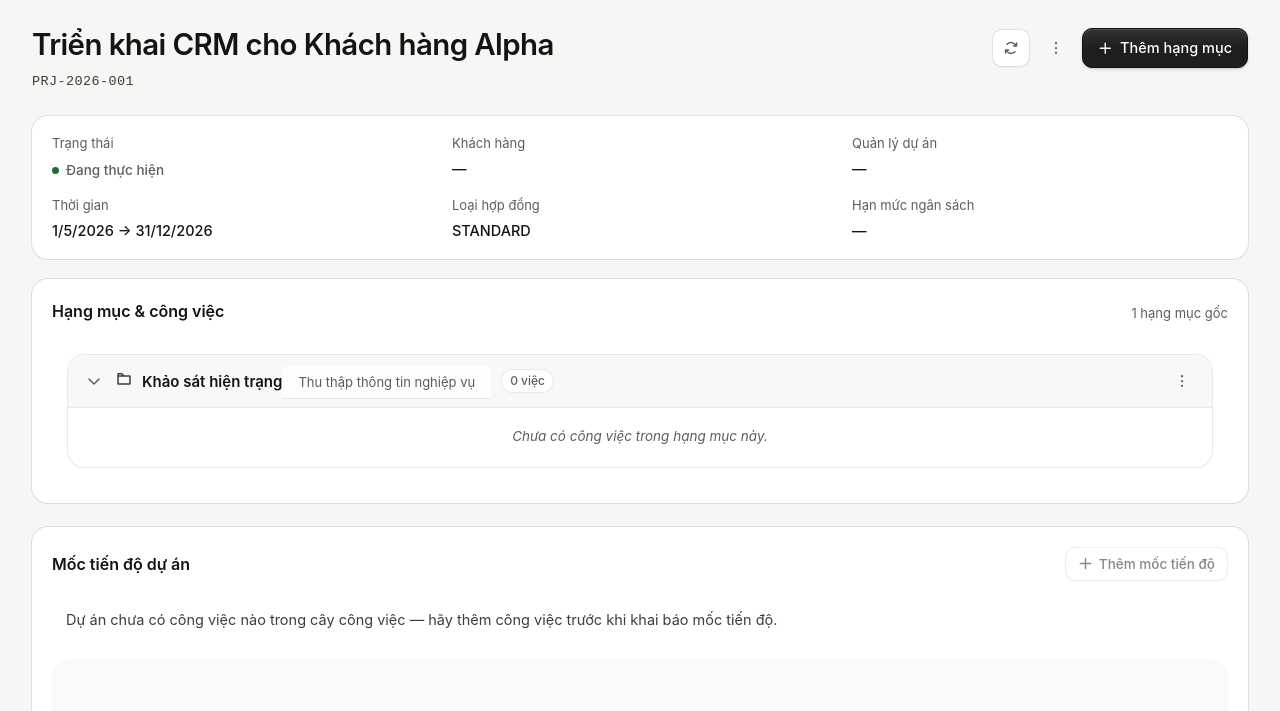
Test: ProjectDetailPage Component (NCL-05-CN-002) › Đóng dự án (NCL-05-CN-006) › TC-02: shows the pending-tasks message returned by the backend when closing is blocked
Check: the text "PRJ-2026-001" is shown, box left=32, top=72, right=134, bottom=92
Click the button named "Thao tác khác với dự án": [1056, 48] box left=1040, top=32, right=1072, bottom=64
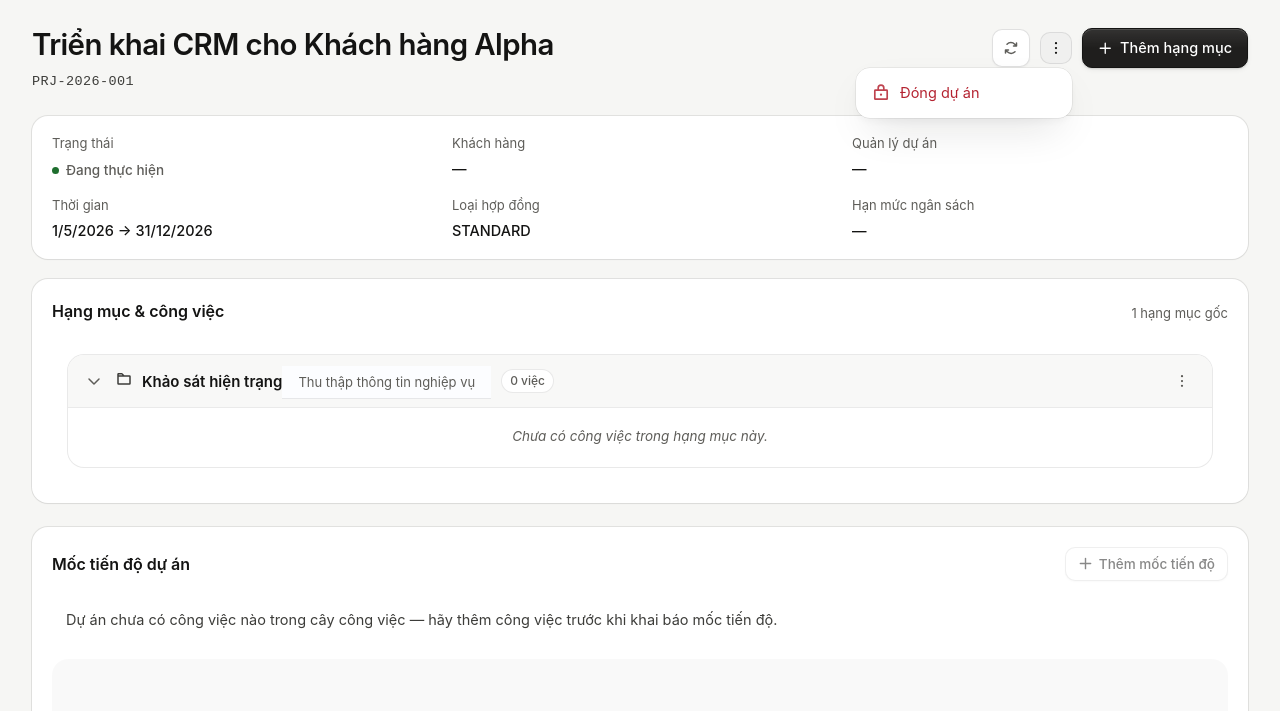
Click the menu item with test id "btn-close-project": [964, 93] box left=862, top=74, right=1066, bottom=112
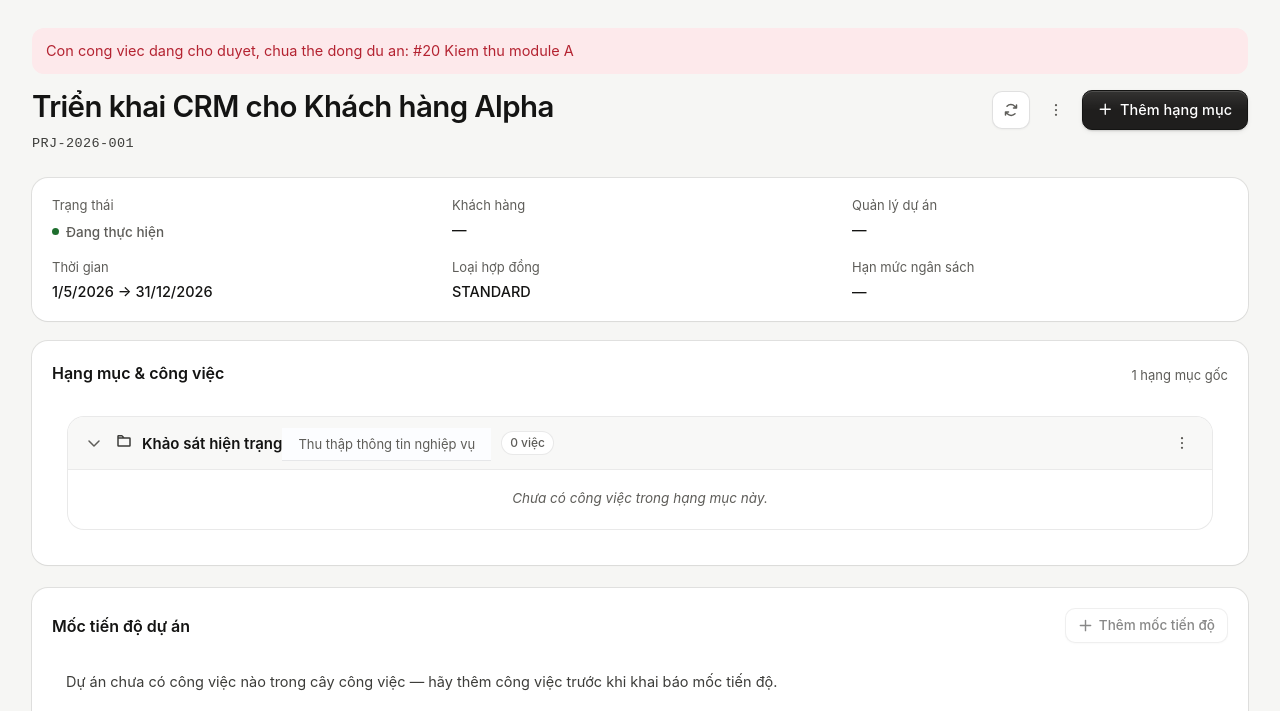
Check: the button named "Thao tác khác với dự án" is shown, box left=1040, top=94, right=1072, bottom=126
Check: the message with test id "project-toast" shows "Con cong viec dang cho duyet", box left=46, top=42, right=574, bottom=59
